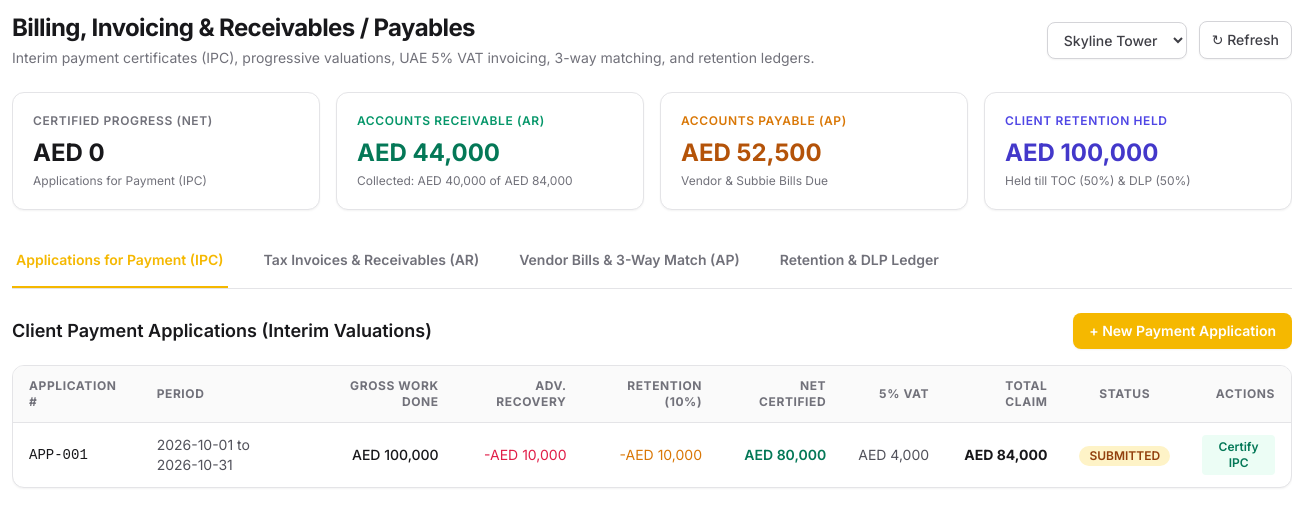
Test: M22: Billing, Invoicing, Receivables & Payables Page › navigates to Vendor Bills (AP) tab and displays 3-way match status
Step 1. Click the button "Vendor Bills & 3-Way Match (AP)" → (629, 261), box [515,234,744,288]
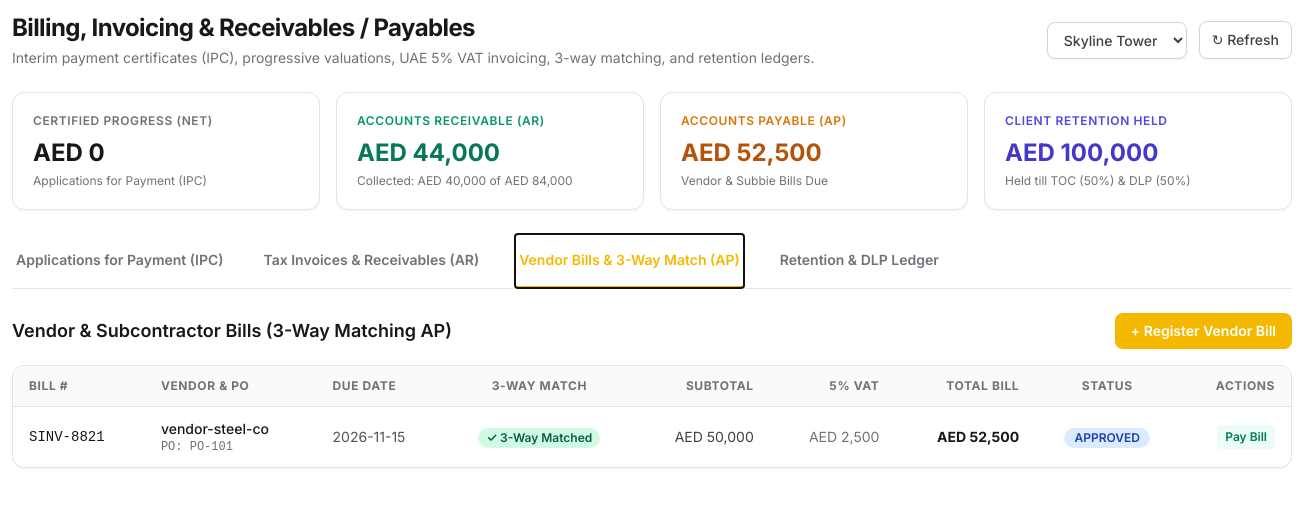
Check: the heading "Vendor & Subcontractor Bills (3-Way Matching AP)" is shown, box [12,317,452,345]
Check: the text "SINV-8821" is shown, box [13,406,145,467]
Check: the text "✓ 3-Way Matched" is shown, box [478,428,600,448]
